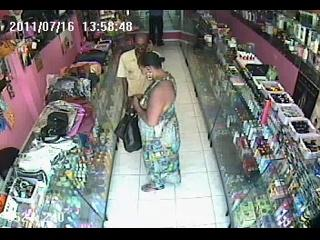Normal: (131, 51, 182, 192), (116, 32, 154, 110), (114, 107, 142, 152), (148, 10, 164, 46), (76, 50, 110, 66)
